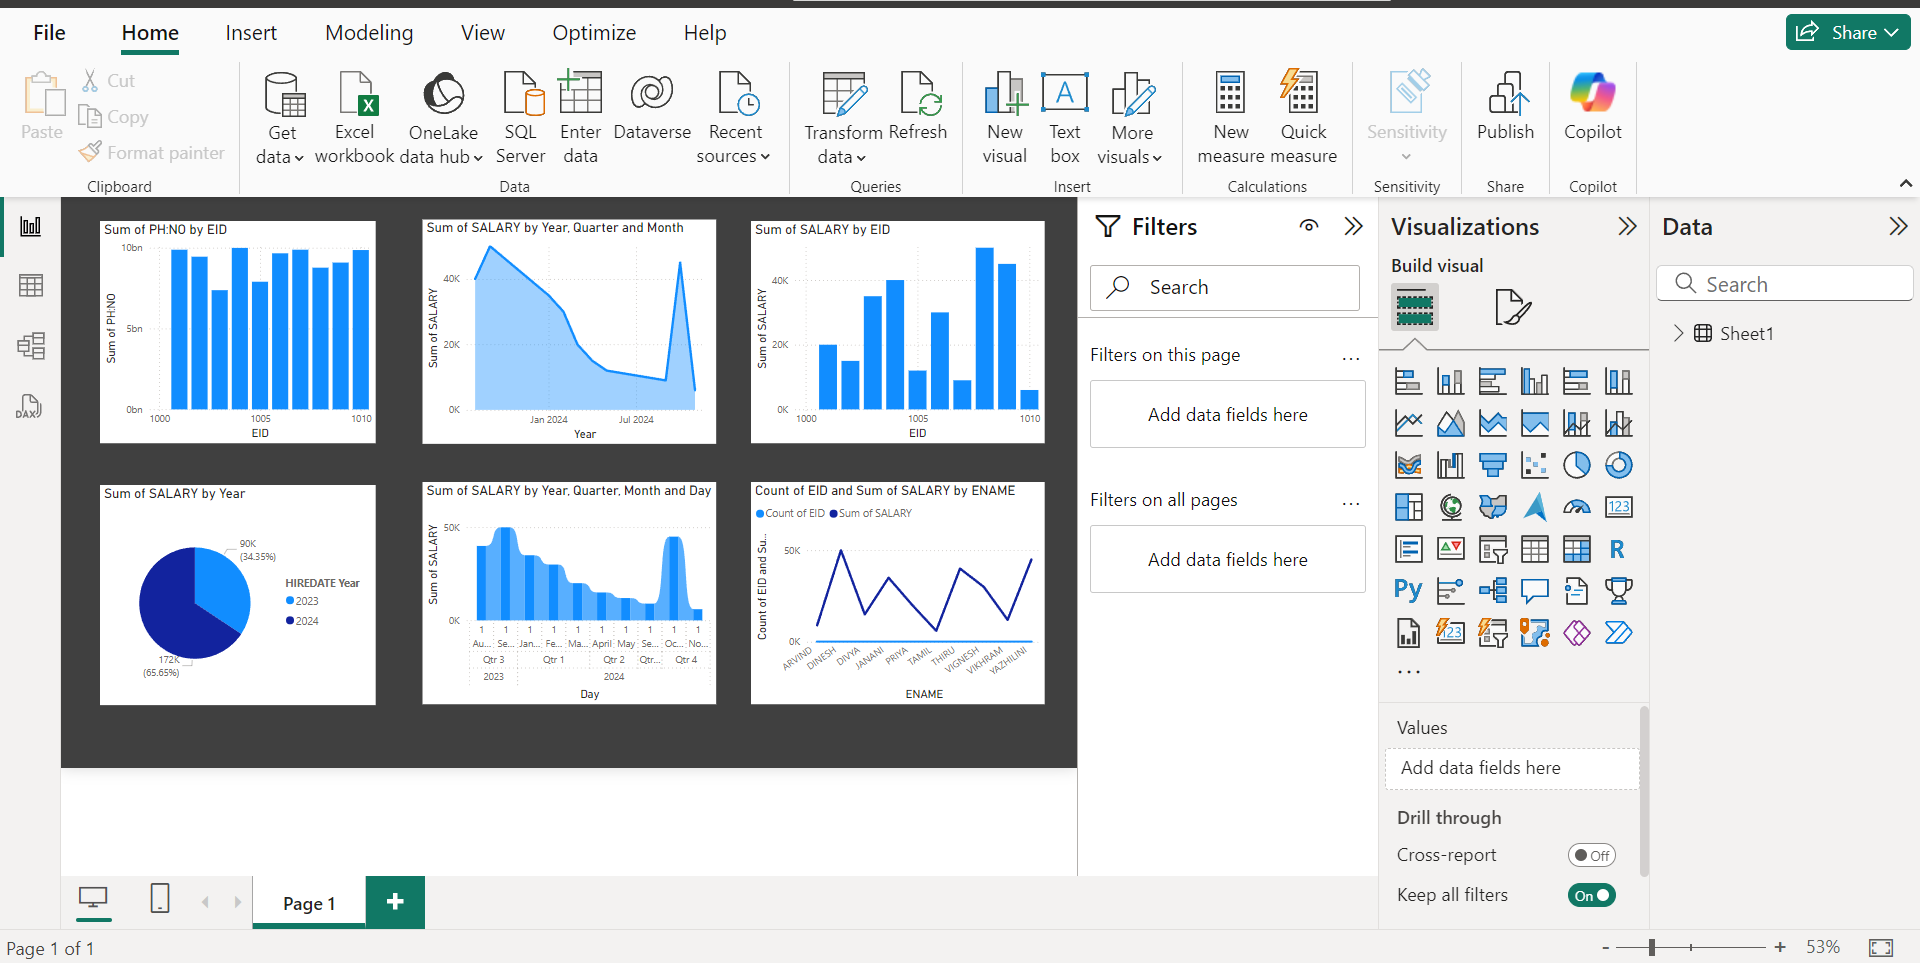

The page's visual inventory and layout, read from the dashboard file:
{"tool":"powerbi","page":{"name":"Page 1","canvas":[1280,720],"ordinal":0},"visuals":[{"type":"clusteredColumnChart","fields":{"Category":["Sheet1.EID"],"Y":["Sum(Sheet1.PH:NO)"]},"box":[50,30,347.5,280],"z":0},{"type":"areaChart","fields":{"Category":["Sheet1.HIREDATE.Variation.Date Hierarchy.Year","Sheet1.HIREDATE.Variation.Date Hierarchy.Quarter","Sheet1.HIREDATE.Variation.Date Hierarchy.Month","Sheet1.HIREDATE.Variation.Date Hierarchy.Day"],"Y":["Sum(Sheet1.SALARY)"]},"box":[455,27.5,370,282.5],"z":1000},{"type":"pieChart","fields":{"Y":["Sum(Sheet1.SALARY)"],"Category":["Sheet1.HIREDATE.Variation.Date Hierarchy.Year","Sheet1.HIREDATE.Variation.Date Hierarchy.Quarter","Sheet1.HIREDATE.Variation.Date Hierarchy.Month","Sheet1.HIREDATE.Variation.Date Hierarchy.Day"]},"box":[50,362.5,347.5,277.5],"z":2000},{"type":"lineStackedColumnComboChart","fields":{"Y":["Sum(Sheet1.SALARY)"],"Category":["Sheet1.EID"]},"box":[870,30,370,280],"z":3000},{"type":"ribbonChart","fields":{"Y":["Sum(Sheet1.SALARY)"],"Category":["Sheet1.HIREDATE.Variation.Date Hierarchy.Year","Sheet1.HIREDATE.Variation.Date Hierarchy.Quarter","Sheet1.HIREDATE.Variation.Date Hierarchy.Month","Sheet1.HIREDATE.Variation.Date Hierarchy.Day"]},"box":[455,360,370,280],"z":4000},{"type":"lineChart","fields":{"Y":["CountNonNull(Sheet1.EID)","Sum(Sheet1.SALARY)"],"Category":["Sheet1.ENAME"]},"box":[870,360,370,280],"z":5000}]}

Visuals, with their boxes on the page's 1280x720 design canvas (x1, y1, x2, y2). These are canvas units, not pixel positions in the 1920x963 screenshot, which may show the page scaled, cropped or inside an application window:
clusteredColumnChart - Sheet1.EID x Sum(Sheet1.PH:NO): (left=50, top=30, right=398, bottom=310)
areaChart - Sheet1.HIREDATE.Variation.Date Hierarchy.Year x Sheet1.HIREDATE.Variation.Date Hierarchy.Quarter: (left=455, top=28, right=825, bottom=310)
pieChart - Sum(Sheet1.SALARY) x Sheet1.HIREDATE.Variation.Date Hierarchy.Year: (left=50, top=362, right=398, bottom=640)
lineStackedColumnComboChart - Sum(Sheet1.SALARY) x Sheet1.EID: (left=870, top=30, right=1240, bottom=310)
ribbonChart - Sum(Sheet1.SALARY) x Sheet1.HIREDATE.Variation.Date Hierarchy.Year: (left=455, top=360, right=825, bottom=640)
lineChart - CountNonNull(Sheet1.EID) x Sum(Sheet1.SALARY): (left=870, top=360, right=1240, bottom=640)
